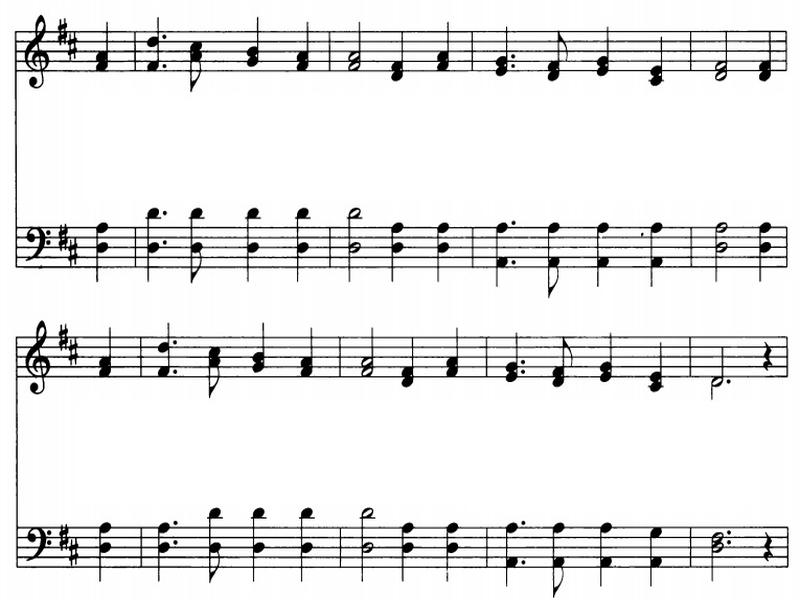B: (354, 490, 387, 587), (707, 205, 737, 294), (343, 192, 367, 285), (707, 23, 737, 84), (354, 324, 383, 384), (344, 6, 368, 76), (338, 242, 369, 288), (706, 528, 727, 584), (708, 335, 728, 384), (346, 200, 360, 234), (708, 375, 722, 406)
C: (197, 334, 229, 407), (545, 22, 576, 80), (543, 334, 572, 392), (179, 38, 208, 94), (543, 554, 571, 600), (538, 255, 567, 299), (187, 242, 213, 285), (202, 542, 224, 585)
CF: (21, 518, 53, 570), (25, 220, 50, 270)
CS: (16, 314, 48, 403), (21, 11, 54, 91)
N: (287, 487, 324, 598), (640, 334, 680, 413), (233, 210, 268, 290), (579, 214, 614, 291), (130, 203, 162, 287), (87, 515, 122, 591), (376, 22, 413, 92), (587, 327, 621, 397), (590, 525, 627, 589), (246, 503, 272, 594), (396, 516, 426, 590), (89, 12, 122, 79), (646, 21, 677, 92), (642, 214, 667, 302), (484, 219, 511, 300), (288, 14, 320, 82), (381, 221, 411, 293), (438, 520, 465, 595), (286, 199, 310, 282), (437, 327, 467, 393), (649, 519, 675, 595), (426, 214, 454, 284), (237, 12, 270, 71), (394, 328, 422, 392), (294, 320, 320, 388), (97, 324, 121, 392), (747, 28, 777, 78), (753, 211, 773, 285), (142, 9, 162, 79), (496, 327, 518, 389), (436, 15, 457, 78), (491, 22, 512, 84), (195, 501, 228, 538), (250, 321, 271, 378), (595, 23, 614, 83), (155, 319, 170, 390), (544, 215, 571, 254), (96, 217, 108, 292), (545, 519, 567, 555), (187, 209, 210, 235)
P: (515, 518, 534, 531), (722, 376, 735, 391), (171, 337, 183, 353), (169, 517, 184, 529), (519, 559, 532, 572), (159, 210, 173, 221), (160, 61, 170, 74), (172, 368, 182, 380), (518, 370, 528, 380), (510, 62, 521, 71), (509, 214, 518, 225), (170, 540, 182, 548), (158, 33, 169, 41), (725, 540, 737, 547), (161, 238, 171, 246), (727, 525, 734, 536), (520, 357, 527, 368), (510, 53, 519, 61), (510, 260, 520, 265)
SN: (757, 334, 776, 374), (763, 534, 775, 567)
SOS: (67, 340, 88, 378), (67, 35, 83, 67), (65, 239, 81, 270), (51, 18, 67, 44), (67, 540, 82, 566), (54, 324, 67, 352), (55, 224, 67, 252), (57, 524, 68, 551)
